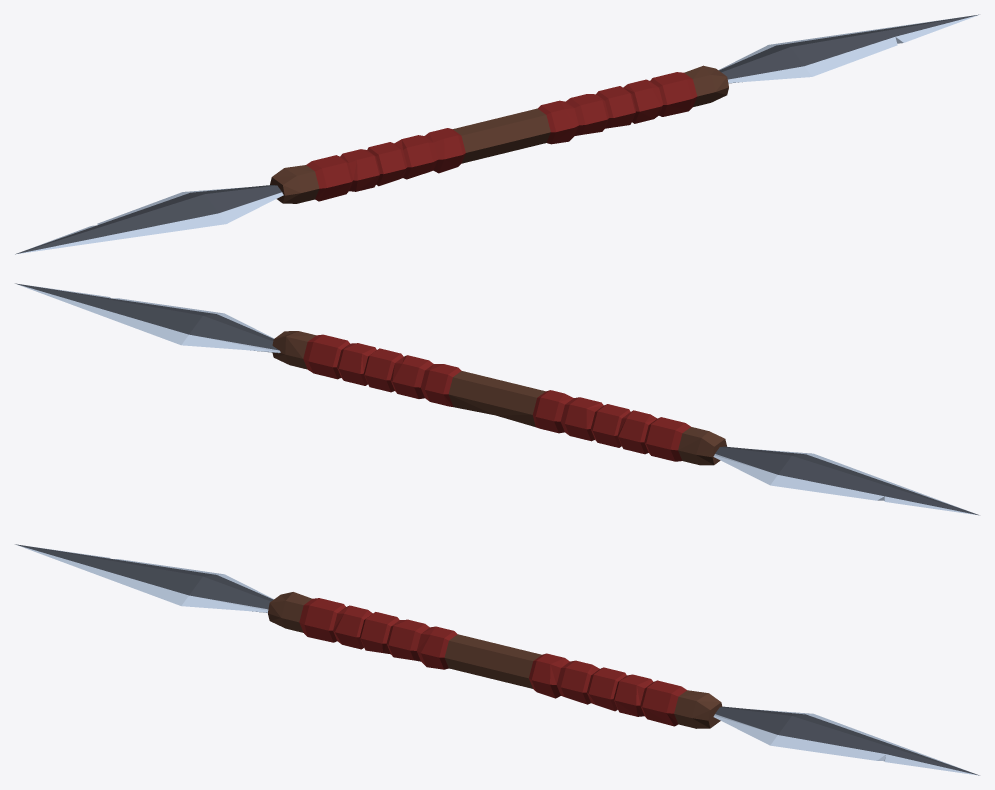
The model's file is Kunai_Double Asia.fbx.
3 views of the same model, one above another, from view 1: azimuth 30°, elevation 25°; view 2: azimuth 150°, elevation 25°; view 3: azimuth 330°, elevation 25° (orthographic).
Visible parts, largest first — view 1: Kunai_Double; view 2: Kunai_Double; view 3: Kunai_Double.
Part boxes in pixels (x1,y1,x2,y2): Kunai_Double: [15, 14, 979, 254]; Kunai_Double: [15, 283, 979, 515]; Kunai_Double: [15, 544, 979, 775].
Size of the model in its own units: 0.8182 by 0.0275 by 0.0699.
